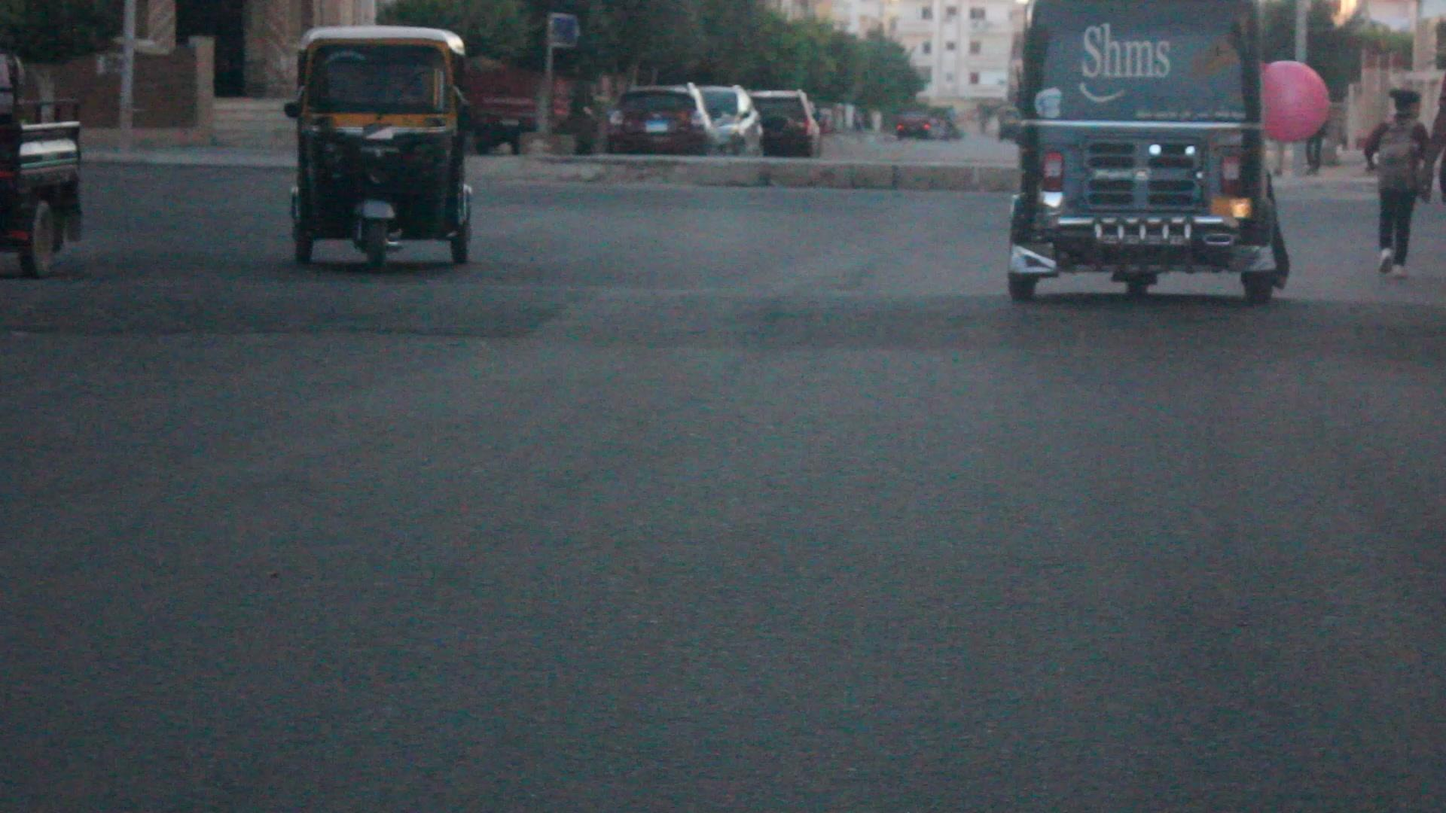Bump: (0, 258, 1446, 378)
